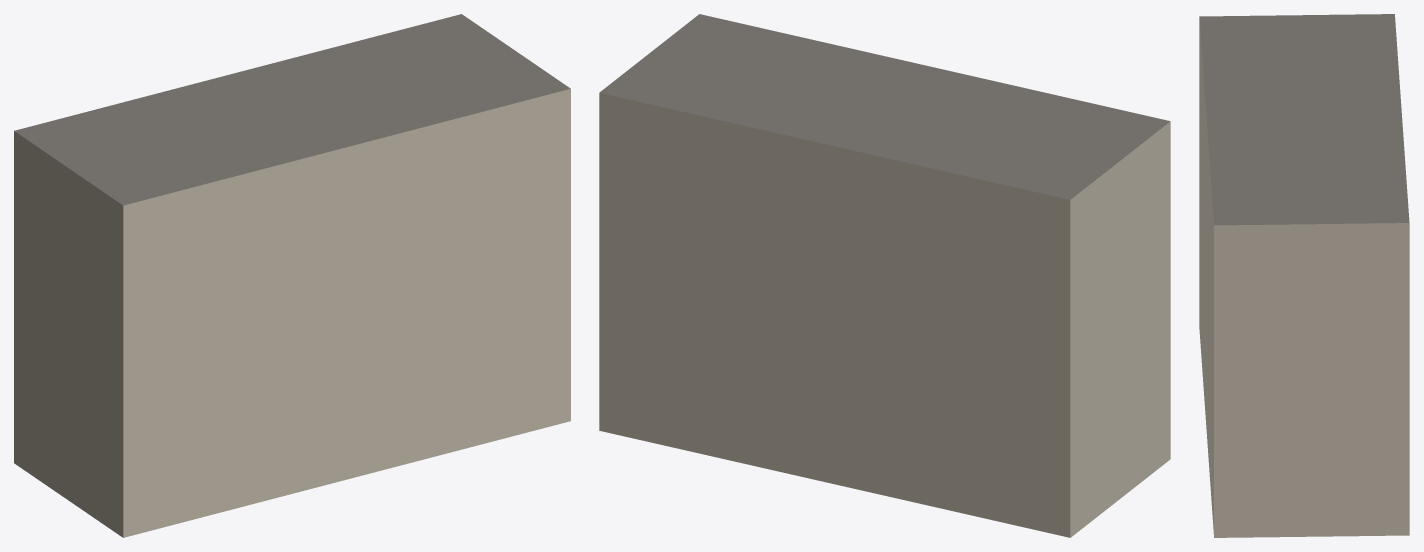
3 renders of one model, left to right at view 1: azimuth 30°, elevation 25°; view 2: azimuth 150°, elevation 25°; view 3: azimuth 270°, elevation 25°, orthographic. The views are drawn at different scales.
Visible parts, largest first — view 1: HP-w858824357; view 2: HP-w858824357; view 3: HP-w858824357.
Part boxes in pixels (x1=…): HP-w858824357: x1=14, y1=14, x2=570, y2=537; HP-w858824357: x1=599, y1=14, x2=1170, y2=537; HP-w858824357: x1=1199, y1=14, x2=1409, y2=537.
Bounding box in the file's own units: 26.12 × 18 × 10.97.
